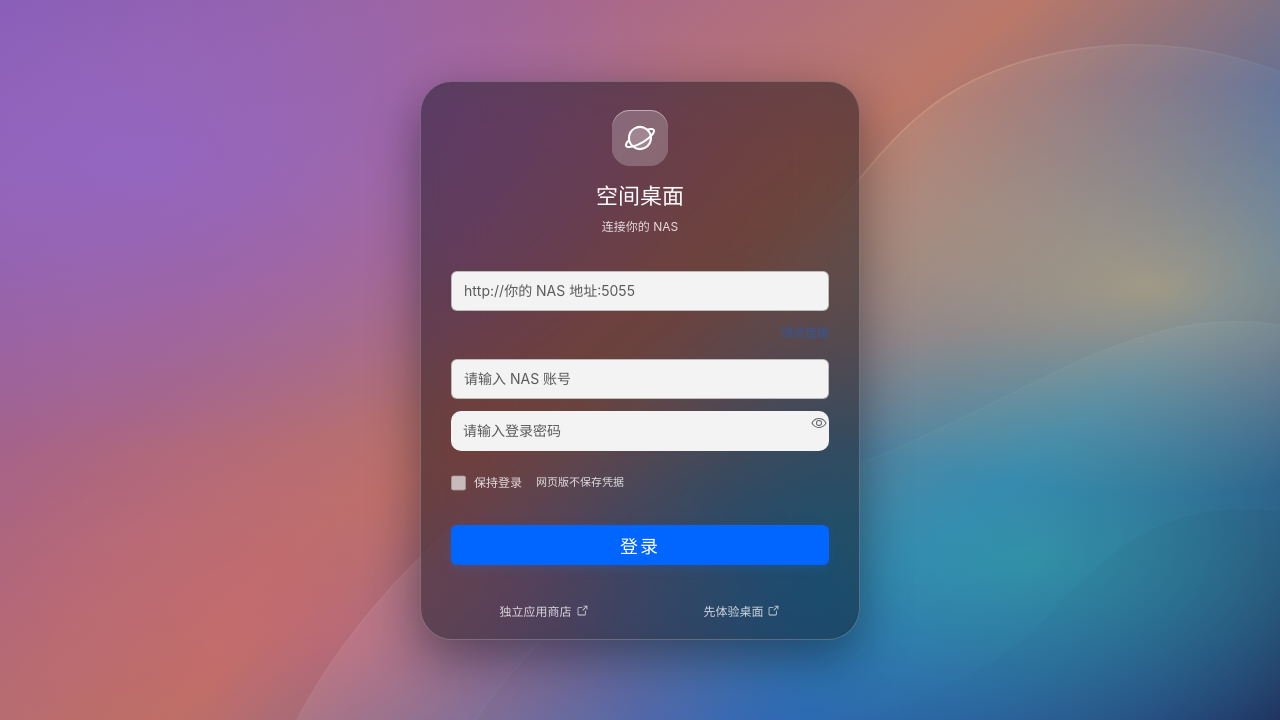
Scenario: preview opens and closes a file window without a NAS mutation
Click the button "先体验桌面" at (742, 610), box [696,594,788,626]
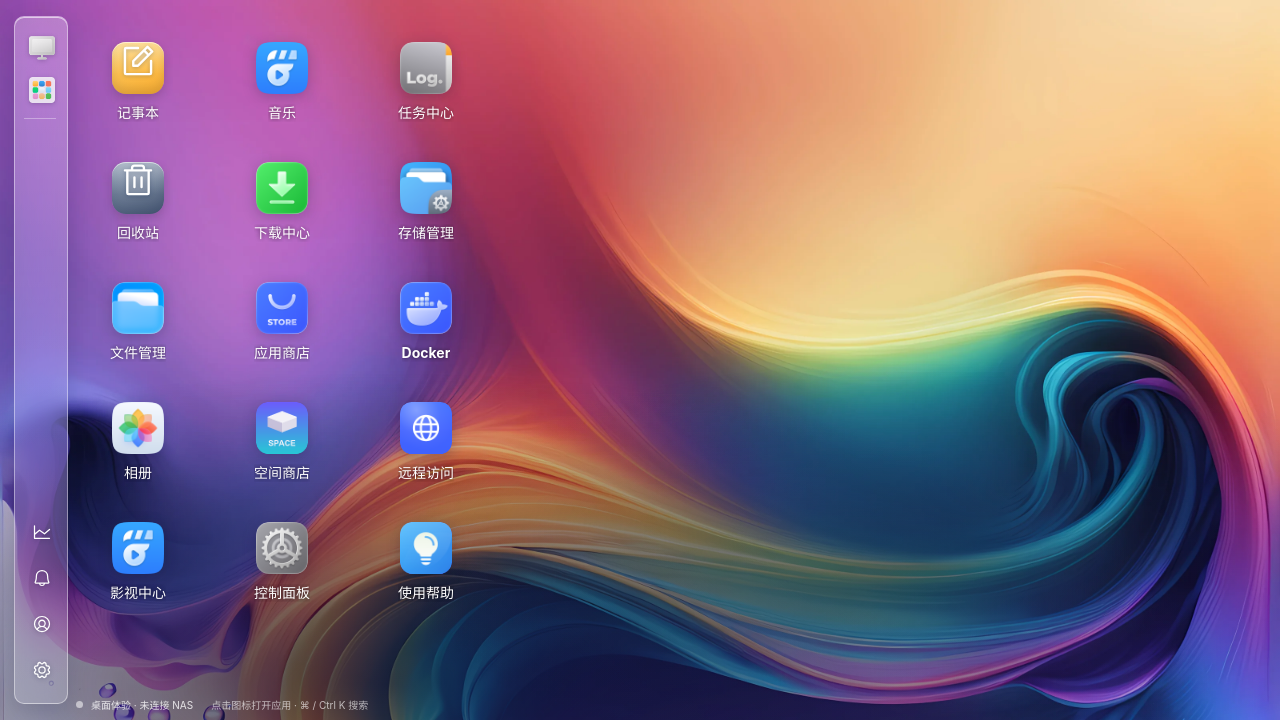
Click the button "文件管理" at (138, 320), box [66,260,210,380]
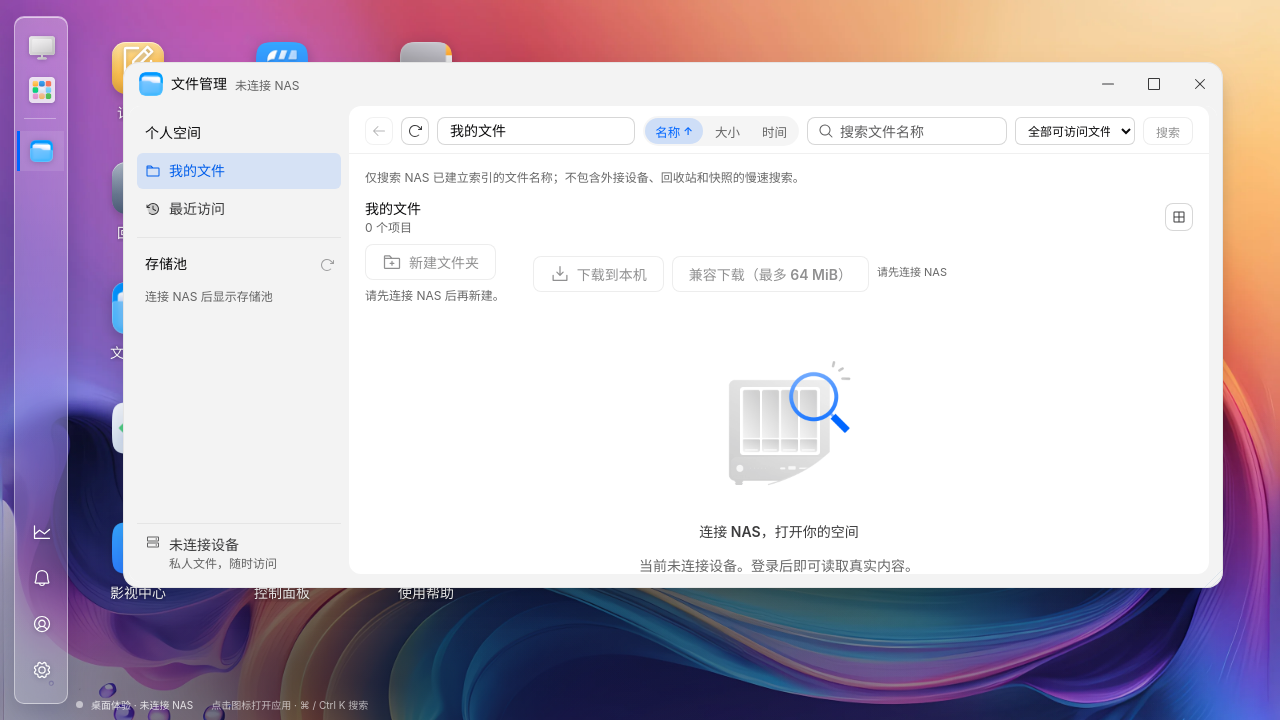
Expected: the element named "文件管理窗口" is shown
Expected: the heading "连接 NAS，打开你的空间" is shown, [699,521,859,543]
Click the button named "关闭文件管理" at (1200, 84), box [1177,62,1223,106]
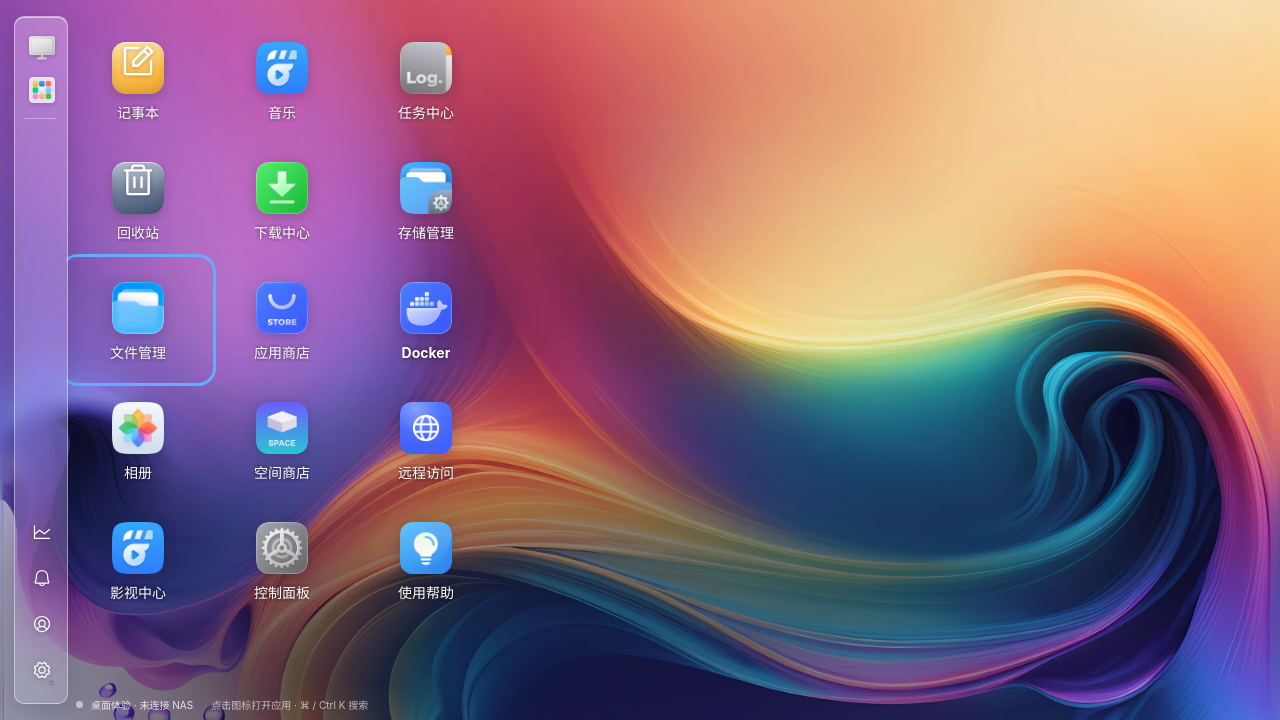
Expected: the element "文件管理窗口" is gone
